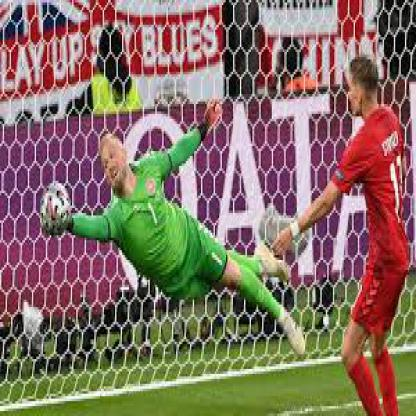goal: (20, 95, 248, 328)
